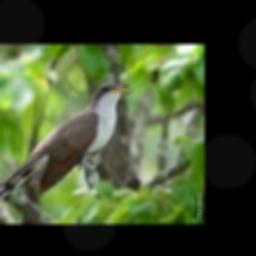Cuckoo: (0, 82, 129, 213)
